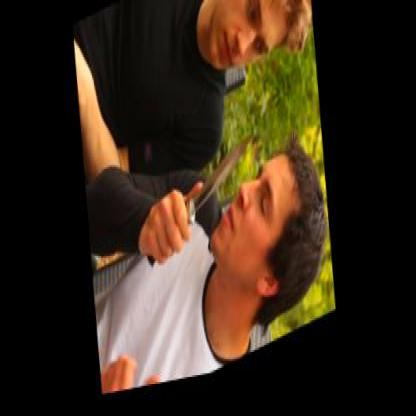knife: (145, 131, 269, 281)
